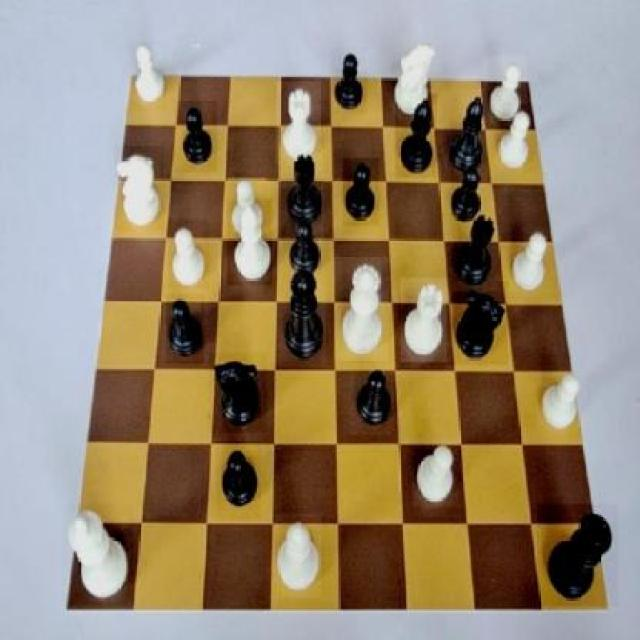bishop: (446, 91, 490, 175), (395, 94, 438, 178)
black-bishop: (537, 505, 618, 607)
black-king: (452, 282, 508, 366), (209, 354, 267, 434)
black-knight: (216, 440, 260, 520), (350, 363, 394, 435), (174, 100, 217, 172), (448, 160, 488, 228), (166, 294, 204, 364), (343, 160, 379, 228), (286, 214, 324, 278), (331, 48, 367, 114)
black-pawn: (278, 265, 326, 367)
black-queen: (451, 214, 500, 291), (282, 150, 324, 226)
black-rook: (276, 514, 322, 598), (228, 200, 272, 286)
white-bishop: (61, 504, 134, 606)
white-king: (388, 35, 440, 120), (116, 146, 164, 231)
white-knight: (537, 363, 586, 430), (414, 438, 460, 508), (494, 104, 538, 174), (508, 228, 554, 294), (483, 56, 528, 122), (168, 218, 208, 288), (129, 40, 166, 111), (228, 174, 265, 240)
white-pawn: (334, 257, 389, 360)
white-queen: (400, 278, 447, 362), (276, 82, 320, 165)
